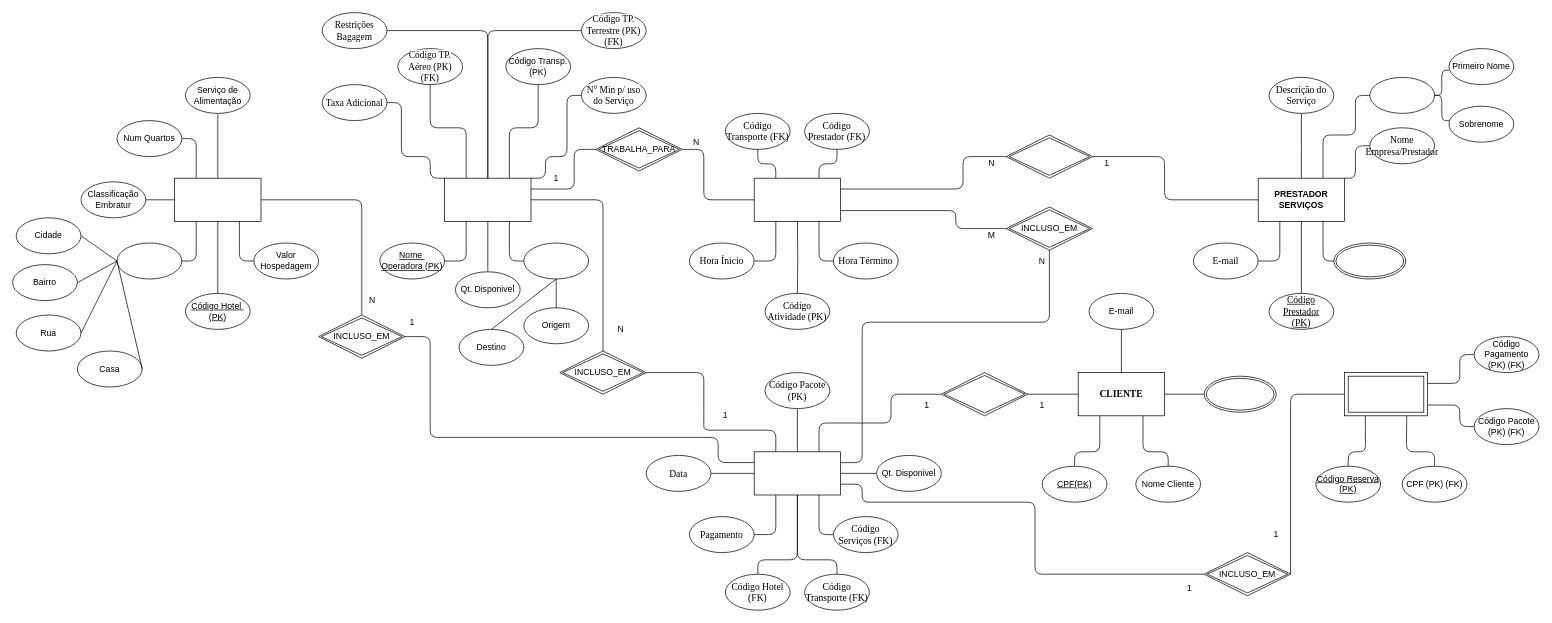
This 1552x623 diagram has some shape labels left out. The shapes that lost their labels are listed below. From the top down, each one's centre as x and y in pixels, then its label:
At (1402,95): "Nome Pessoa".
At (1049,156): "TRABALHA_EM".
At (217,199): "HOTEL".
At (487,199): "TRANSPORTES".
At (797,199): "ATIVIDADE".
At (149,260): "Localização".
At (556,260): "Trajeto".
At (1369,260): "Telefone".
At (984,394): "REALIZA".
At (1239,393): "Código Telefone (PK) (FK)".
At (1385,394): "RESERVA".
At (797,473): "PACOTES".
